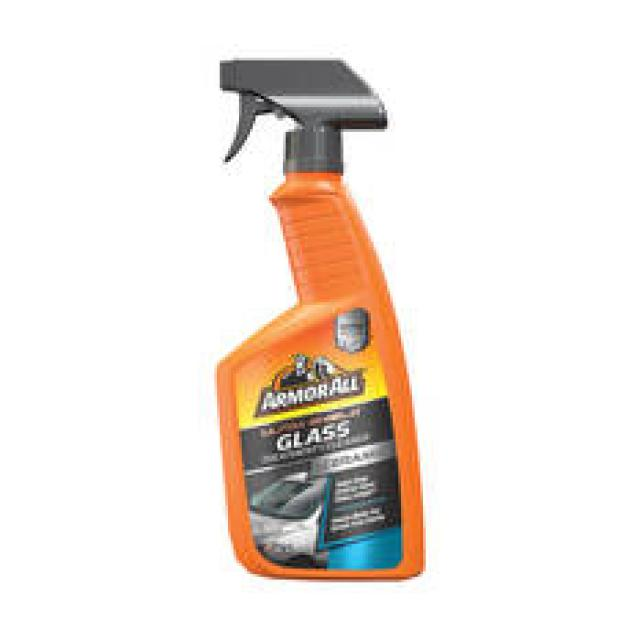winwinshield_washer: (210, 55, 436, 585)
